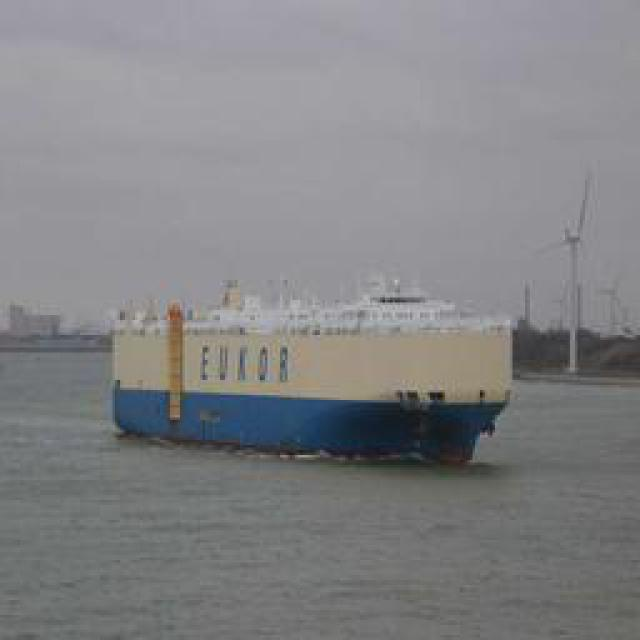Ship: (110, 278, 513, 463)
